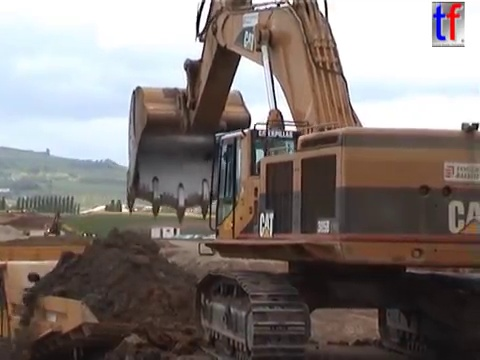excavator: (122, 1, 480, 360), (42, 208, 65, 238)
truck: (1, 240, 208, 360)
